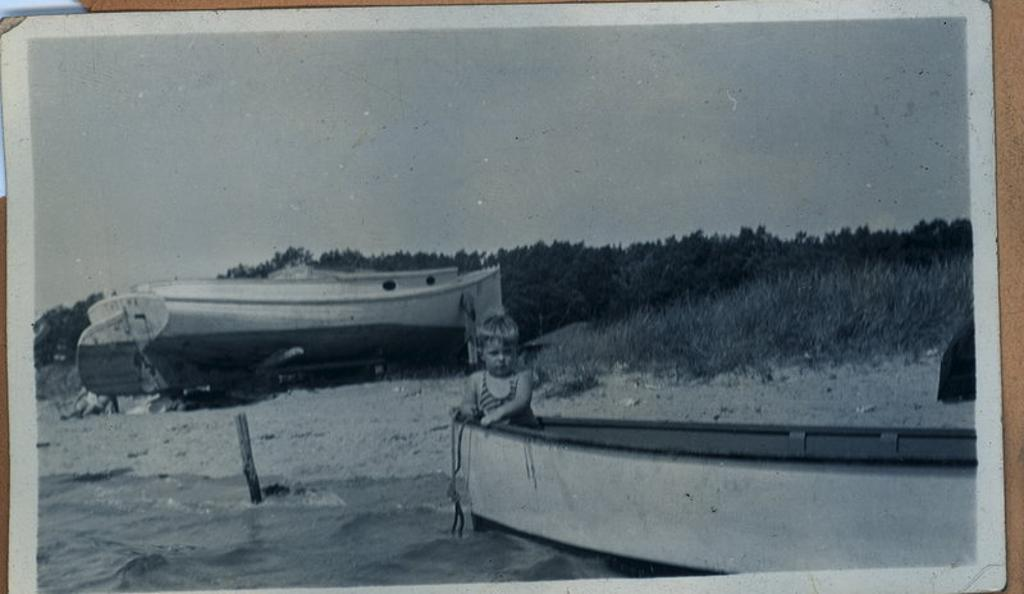face: (485, 338, 516, 375)
